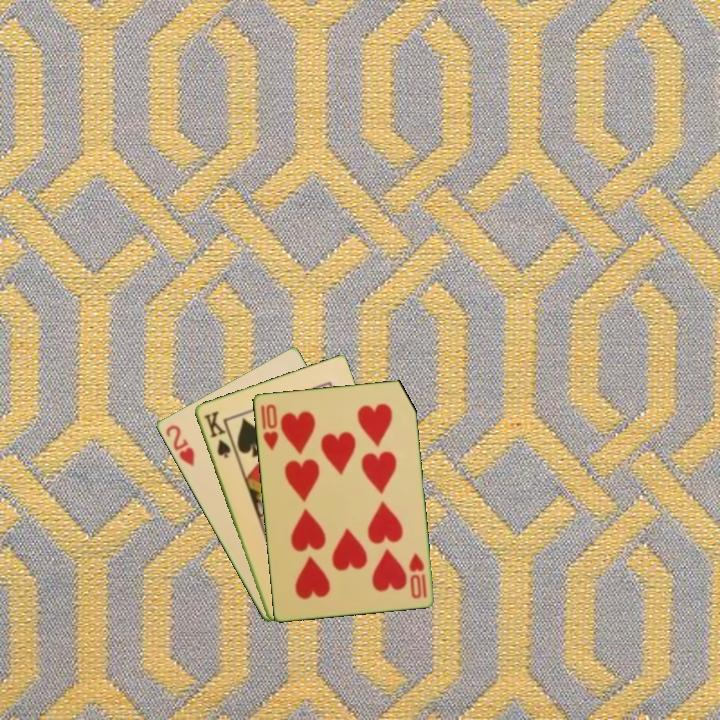10h: (257, 400, 281, 453), (405, 549, 429, 601)
2h: (162, 421, 197, 469)
Ks: (199, 407, 233, 461)
